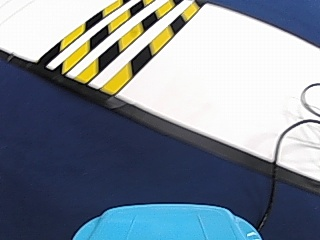bump: (44, 1, 177, 85)
